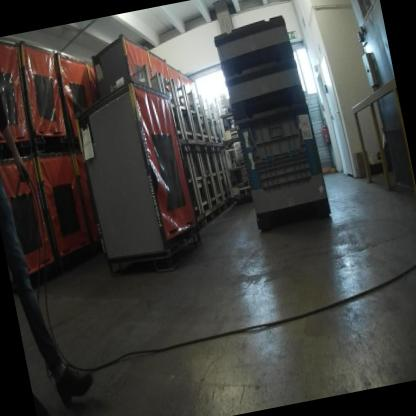stillage: (217, 137, 257, 201), (208, 88, 245, 143)
